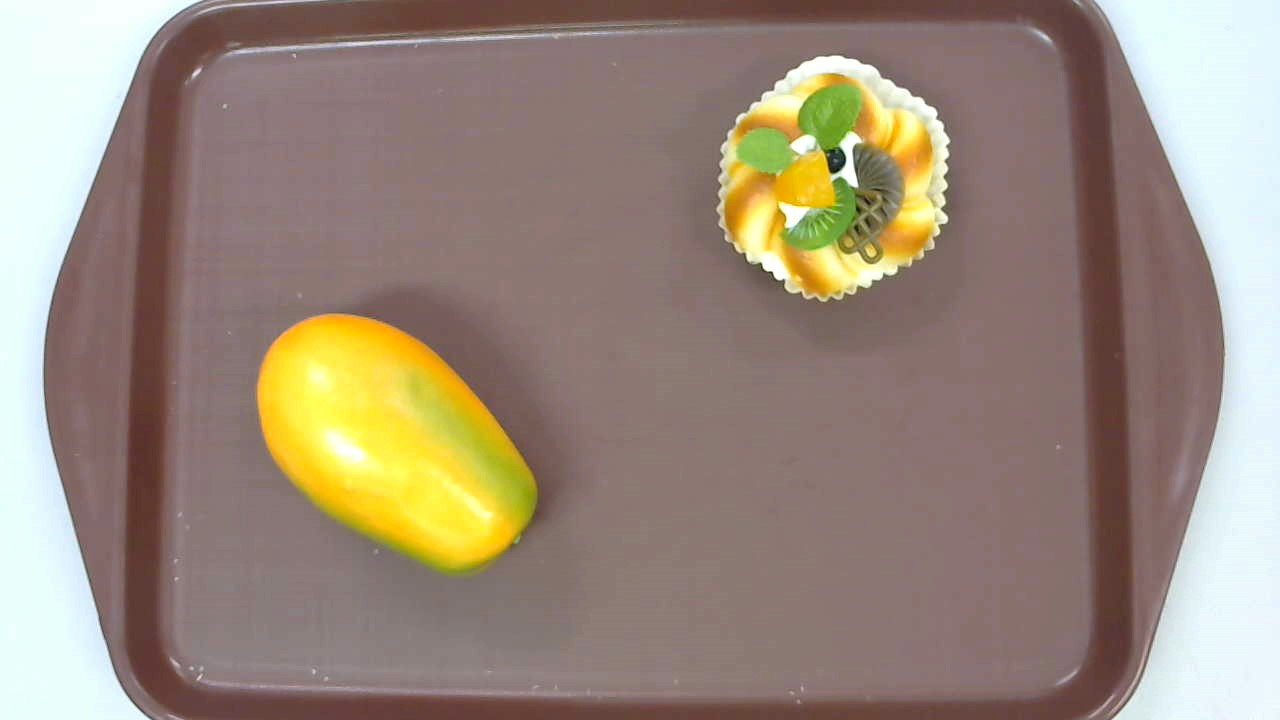fruit tart: (714, 53, 952, 305)
papya: (257, 313, 539, 577)
